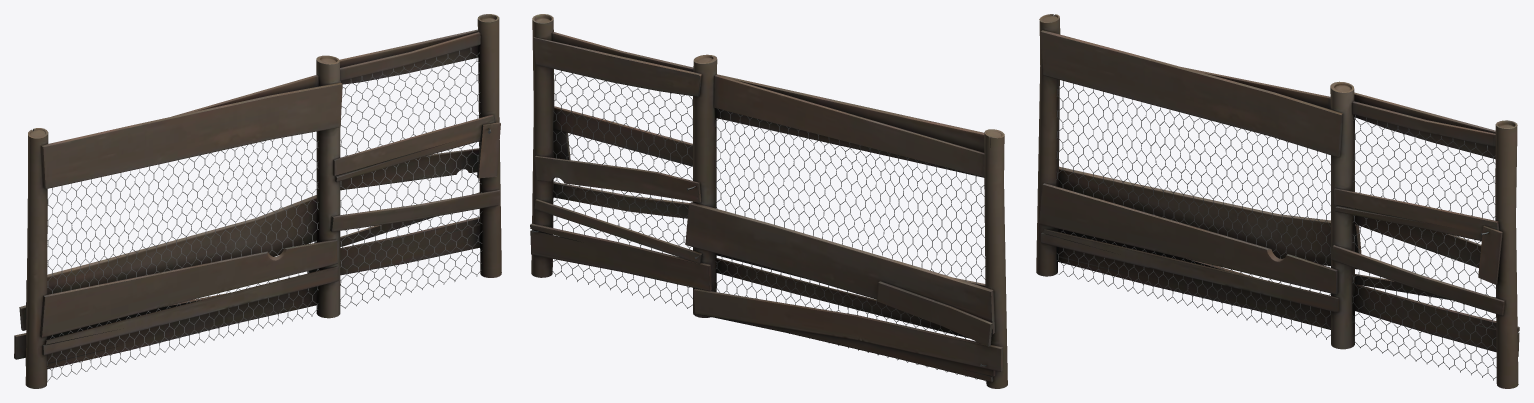
The picture shows the model from 3 angles, left to right: view 1: azimuth 30°, elevation 25°; view 2: azimuth 150°, elevation 25°; view 3: azimuth 330°, elevation 25°; orthographic projection.
Parts seen in each view (by area): view 1: body0_model0_lod0_mesh1, body0_model0_lod0_mesh0; view 2: body0_model0_lod0_mesh1, body0_model0_lod0_mesh0; view 3: body0_model0_lod0_mesh1, body0_model0_lod0_mesh0.
Boxes of the visible parts, x1,y1,x2,y2 form: body0_model0_lod0_mesh1: (14, 14, 501, 388); body0_model0_lod0_mesh0: (47, 47, 482, 381); body0_model0_lod0_mesh1: (530, 14, 1007, 388); body0_model0_lod0_mesh0: (551, 70, 985, 381); body0_model0_lod0_mesh1: (1036, 14, 1519, 388); body0_model0_lod0_mesh0: (1056, 81, 1496, 380).
Bounding box in the file's own units: 261 × 134 × 24.46.
2 materials, 2 textured.
